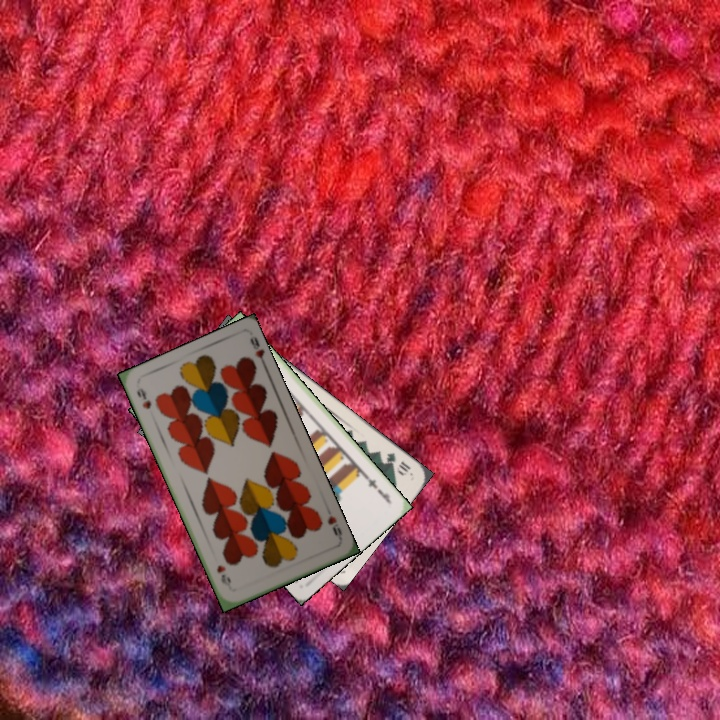E7: (361, 471, 393, 505)
G10: (382, 448, 413, 478)
H9: (323, 511, 345, 542), (133, 384, 154, 412)
